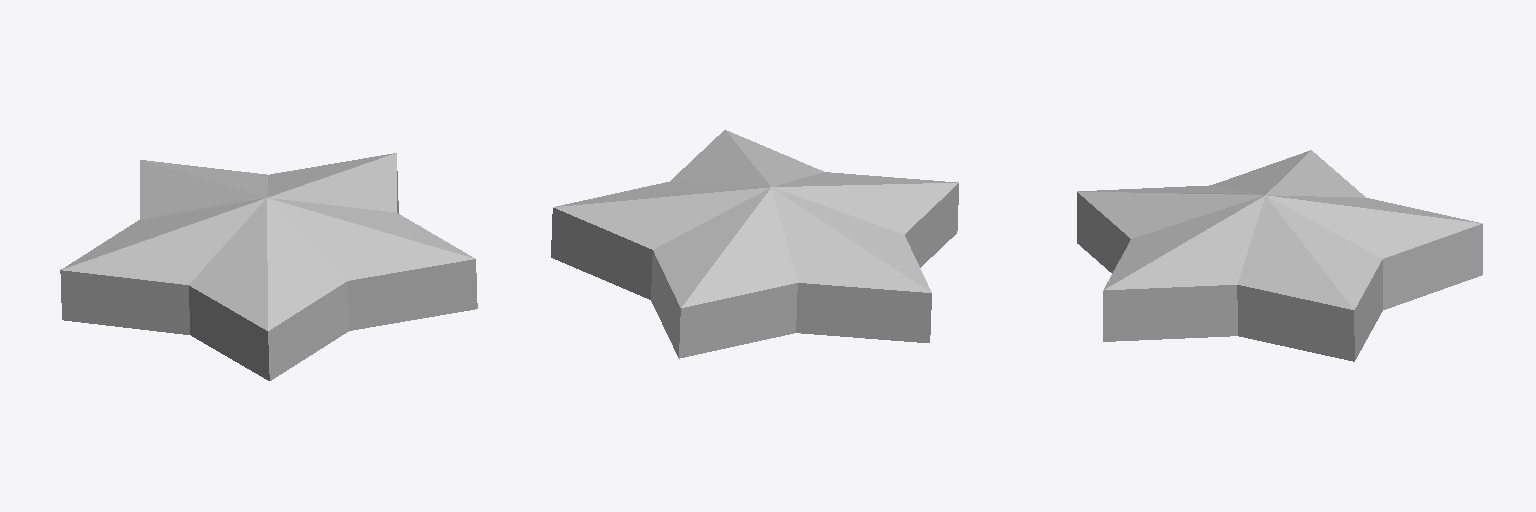
File: stars.obj
3 views of the same model, side by side, from view 1: azimuth 30°, elevation 25°; view 2: azimuth 150°, elevation 25°; view 3: azimuth 270°, elevation 25° (orthographic).
Parts seen in each view (by area): view 1: Circle; view 2: Circle; view 3: Circle.
Boxes of the visible parts, <box> form: Circle: <box>60,153,477,380</box>; Circle: <box>551,130,958,358</box>; Circle: <box>1077,150,1482,361</box>.
Bounding box in the file's own units: 1.9 × 0.6312 × 1.86.